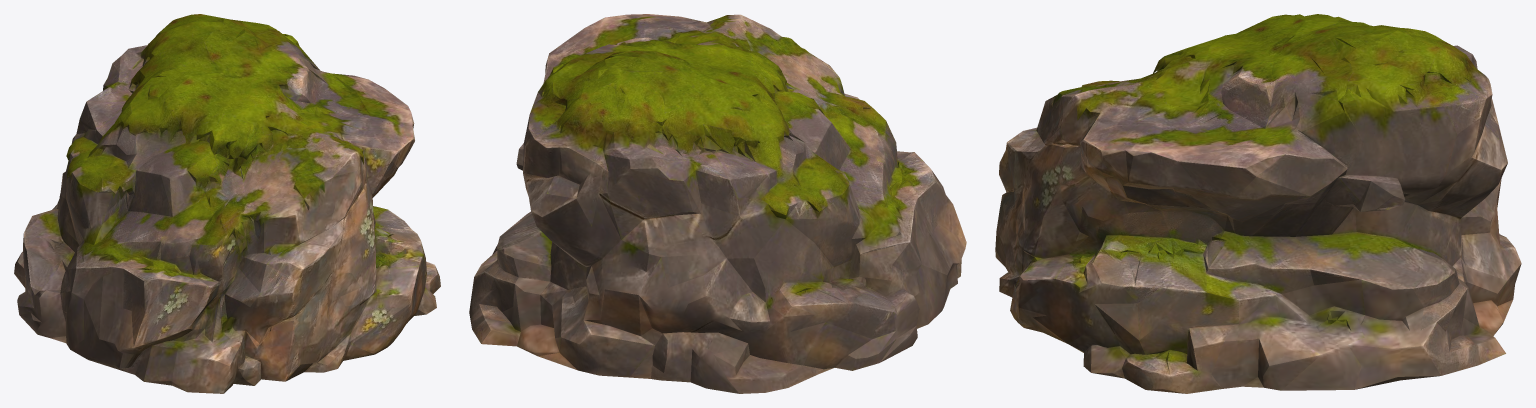
File: boulder.glb
3 renders of one model, left to right at view 1: azimuth 30°, elevation 25°; view 2: azimuth 150°, elevation 25°; view 3: azimuth 270°, elevation 25°, orthographic. The views are drawn at different scales.
Visible parts, largest first — view 1: Mesh_0; view 2: Mesh_0; view 3: Mesh_0.
Boxes of the visible parts, <box> form: Mesh_0: <box>14,14,440,393</box>; Mesh_0: <box>469,14,966,393</box>; Mesh_0: <box>995,14,1521,393</box>.
Bounding box in the file's own units: 1.85 × 1.1 × 1.89.
Materials: 1 (1 with a texture image).
